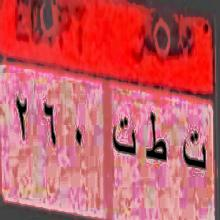0: (73, 120, 85, 152)
2: (14, 89, 30, 145)
6: (42, 98, 57, 151)
Taa: (144, 104, 168, 174)
taa: (179, 120, 209, 181), (111, 109, 139, 163)
